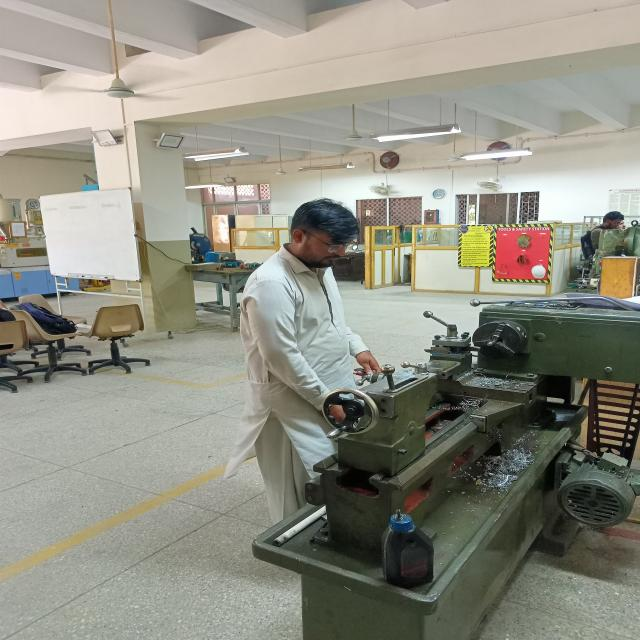dress: (232, 236, 378, 522)
glasses: (312, 235, 362, 260)
